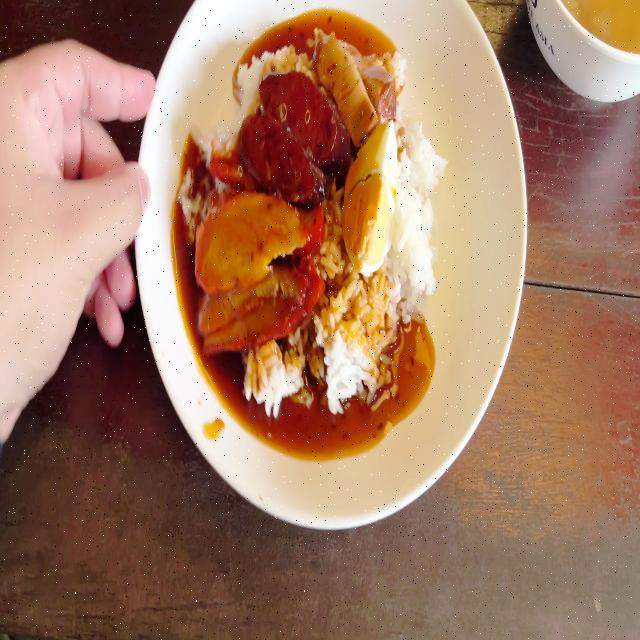boiled_egg: (349, 132, 396, 272)
chainese_sausage: (242, 73, 351, 191), (262, 70, 351, 170), (237, 113, 332, 206)
crispy_pork: (310, 28, 396, 128)
red_pork: (187, 191, 331, 341), (198, 280, 325, 353), (195, 186, 306, 268), (200, 270, 307, 298)
red_pork_and_crispy_pork: (180, 36, 446, 416)
rice: (394, 124, 446, 297), (325, 271, 398, 390), (250, 338, 312, 411)
